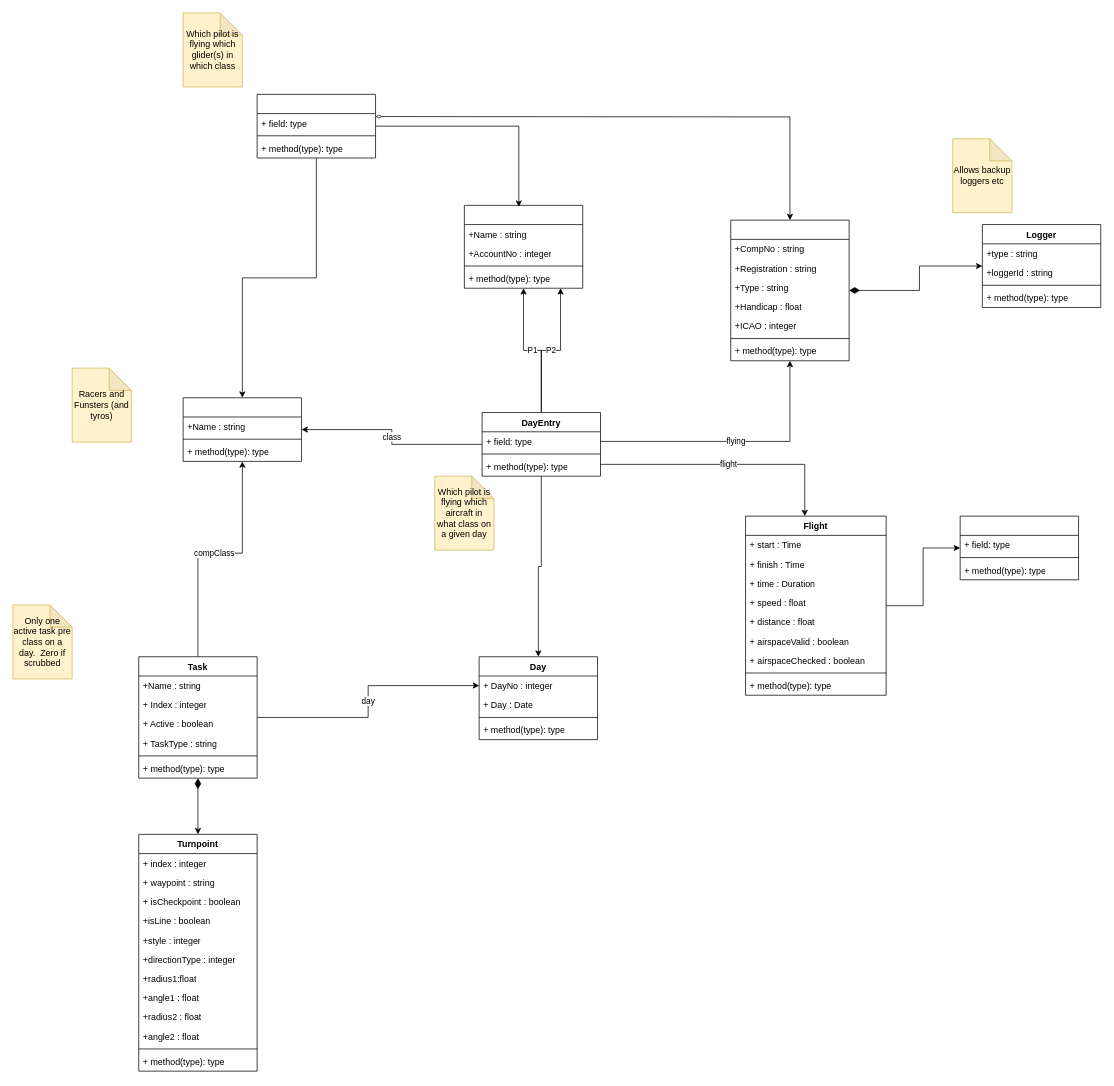
Some shapes in this 1114 by 1086 pixel diagram are drawn without their labels. Here are the shapes that lost their labels. From the top down, the box of each, then its label:
(256, 94, 376, 158): CompetitionEntry
(464, 205, 583, 288): Pilot
(730, 219, 849, 361): Glider
(182, 397, 302, 461): CompetitionClass
(959, 515, 1079, 580): IGCFile
